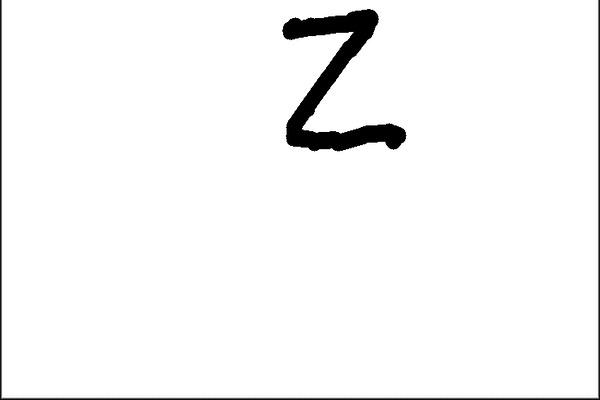Z: (273, 4, 410, 161)
